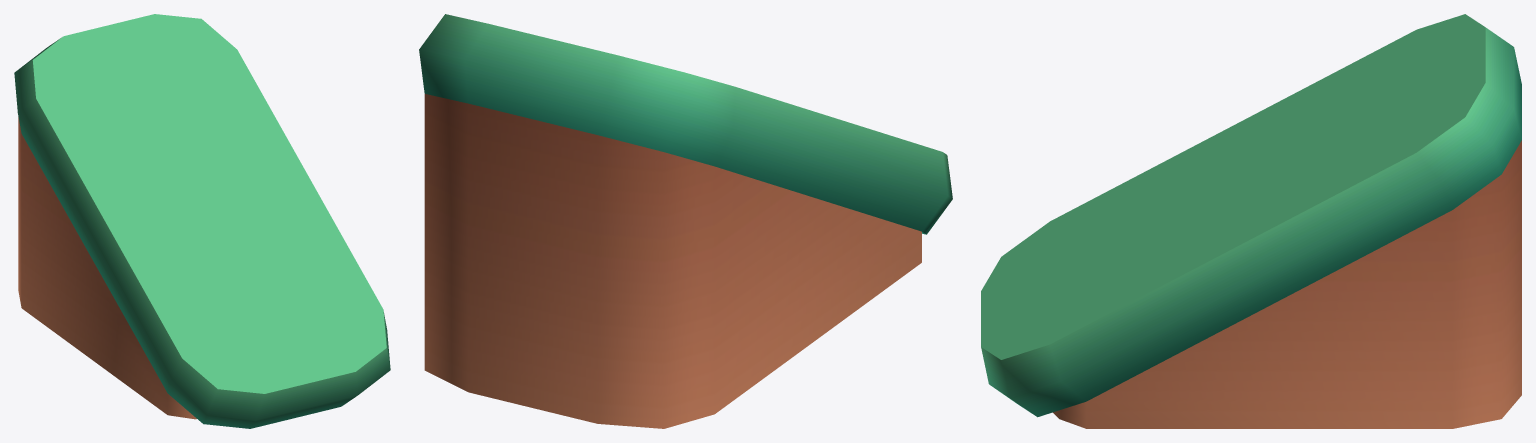
Rendered from block-grass-large-slope-steep-narrow.glb.
3 views of the same model, side by side, from view 1: azimuth 30°, elevation 25°; view 2: azimuth 150°, elevation 25°; view 3: azimuth 270°, elevation 25° (orthographic). The views are drawn at different scales.
Visible parts, largest first — view 1: block-grass-large-slope-steep-narrow; view 2: block-grass-large-slope-steep-narrow; view 3: block-grass-large-slope-steep-narrow.
Part boxes in pixels (<box>): block-grass-large-slope-steep-narrow: <box>14,14,390,428</box>; block-grass-large-slope-steep-narrow: <box>419,14,952,428</box>; block-grass-large-slope-steep-narrow: <box>981,14,1521,428</box>.
Size of the model in its own units: 1.08 by 1.22 by 1.86.
1 material, 1 textured.
